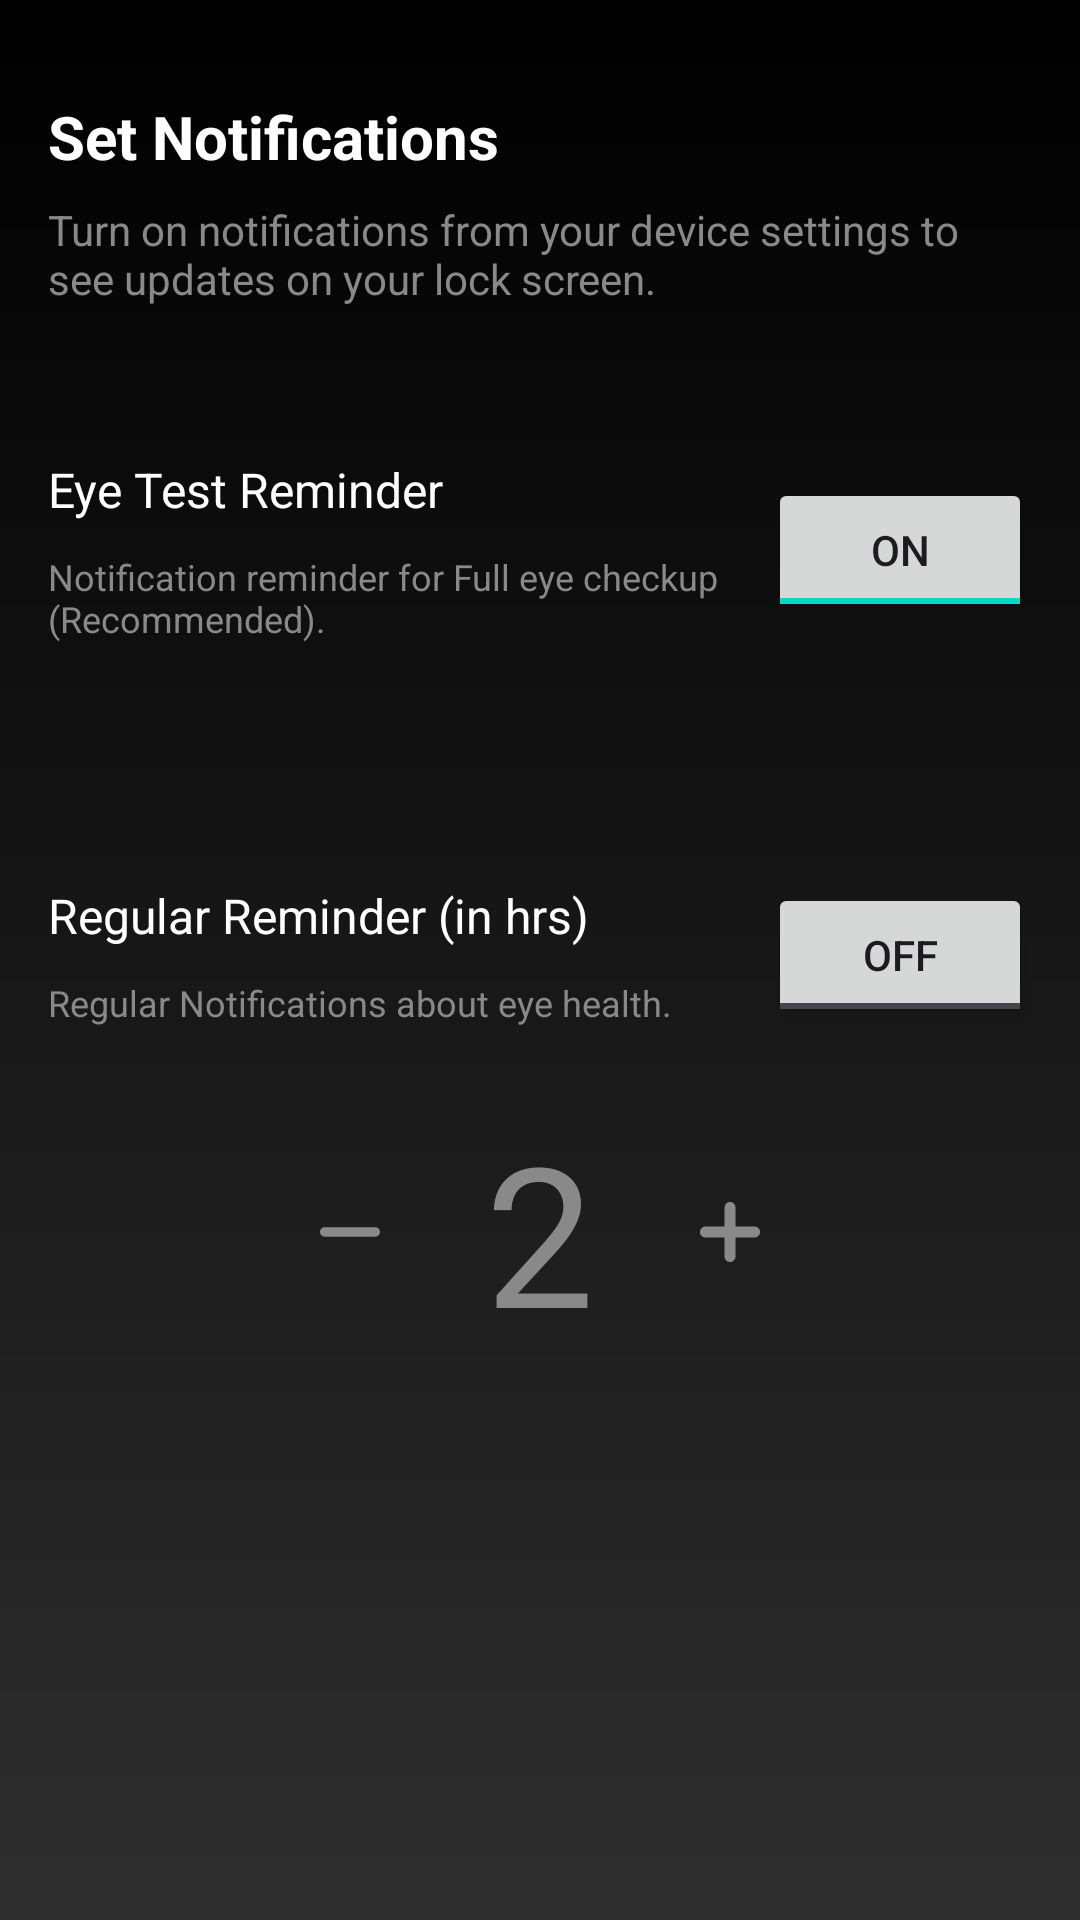

Where icons sit on this 1080x1920 app screen, as (x1, y1, x2, y2):
Decrease Hrs by 1: (320, 1227, 380, 1237)
Increase Hrs by 1: (700, 1202, 760, 1262)
